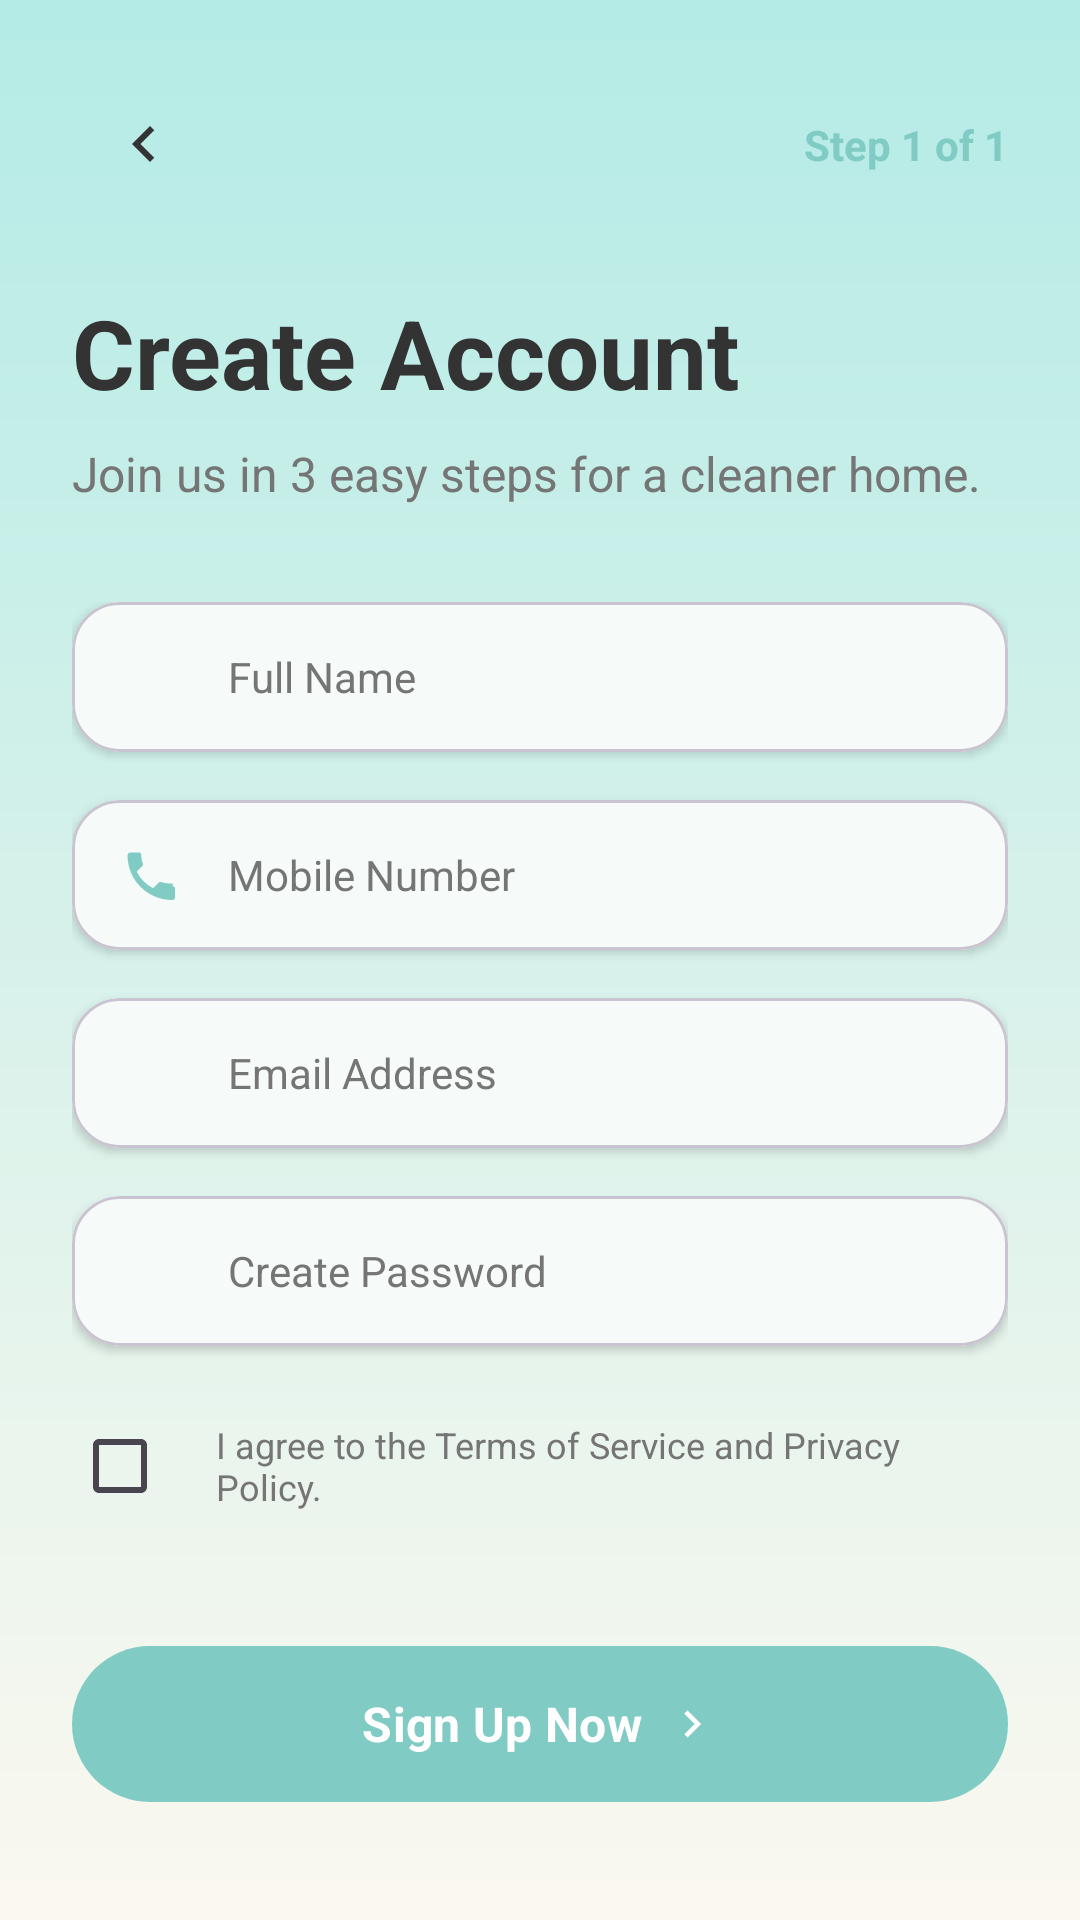

Named icons in this screenshot (1080 x 1920) and their bounding boxes, {"left": x1, "top": y1, "right": x2, "bottom": y2}:
call: {"left": 127, "top": 852, "right": 175, "bottom": 900}
